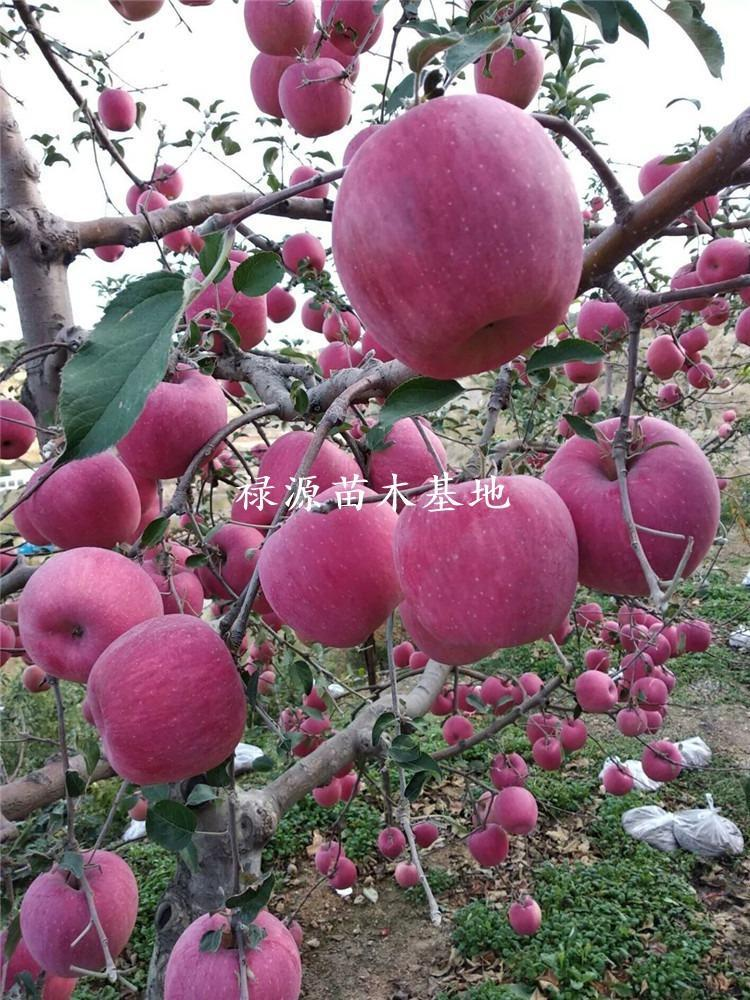apple: (329, 97, 586, 378), (392, 475, 578, 665), (543, 416, 716, 598), (84, 614, 246, 784), (259, 480, 404, 648), (15, 545, 163, 685), (17, 847, 144, 984), (116, 363, 229, 478), (163, 908, 300, 1000), (26, 450, 142, 547), (349, 417, 448, 512), (278, 58, 351, 137), (472, 34, 544, 110), (198, 524, 265, 599), (242, 2, 316, 57), (320, 1, 386, 57), (251, 51, 299, 119), (695, 239, 750, 289), (577, 299, 628, 351), (1, 399, 36, 460), (494, 787, 538, 835), (574, 670, 621, 714), (281, 232, 325, 276), (644, 336, 686, 379), (641, 741, 682, 783), (467, 825, 508, 866), (96, 88, 135, 131), (490, 750, 528, 787), (509, 897, 542, 934), (265, 285, 296, 324), (533, 736, 564, 770), (442, 714, 474, 746), (314, 840, 345, 873), (603, 761, 633, 795), (558, 715, 586, 751), (301, 295, 328, 332), (326, 857, 356, 889), (378, 825, 405, 856), (395, 860, 419, 889)
